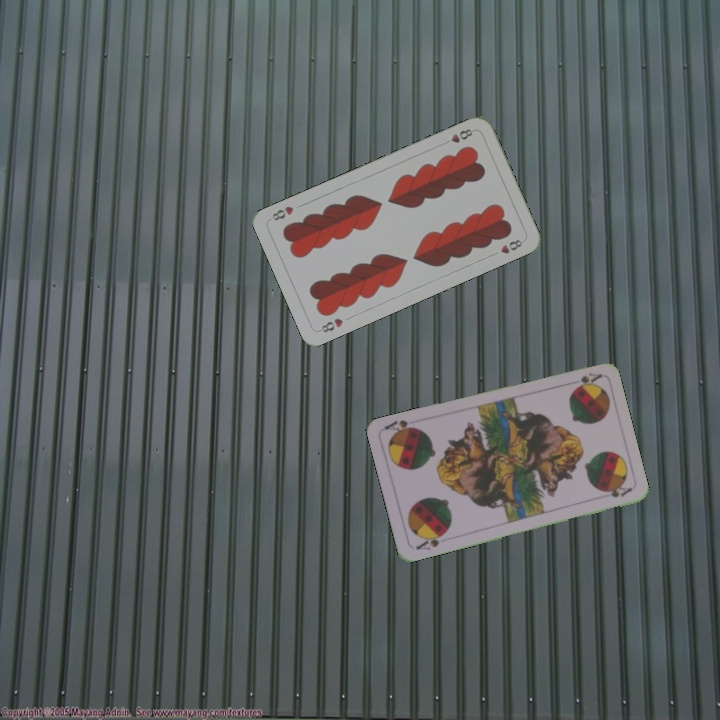H8: (315, 314, 346, 335), (447, 125, 475, 146)
SA: (412, 528, 449, 553), (571, 369, 604, 390)
